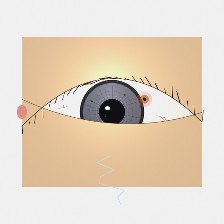foreign_body_visible: (78, 74, 96, 88)
